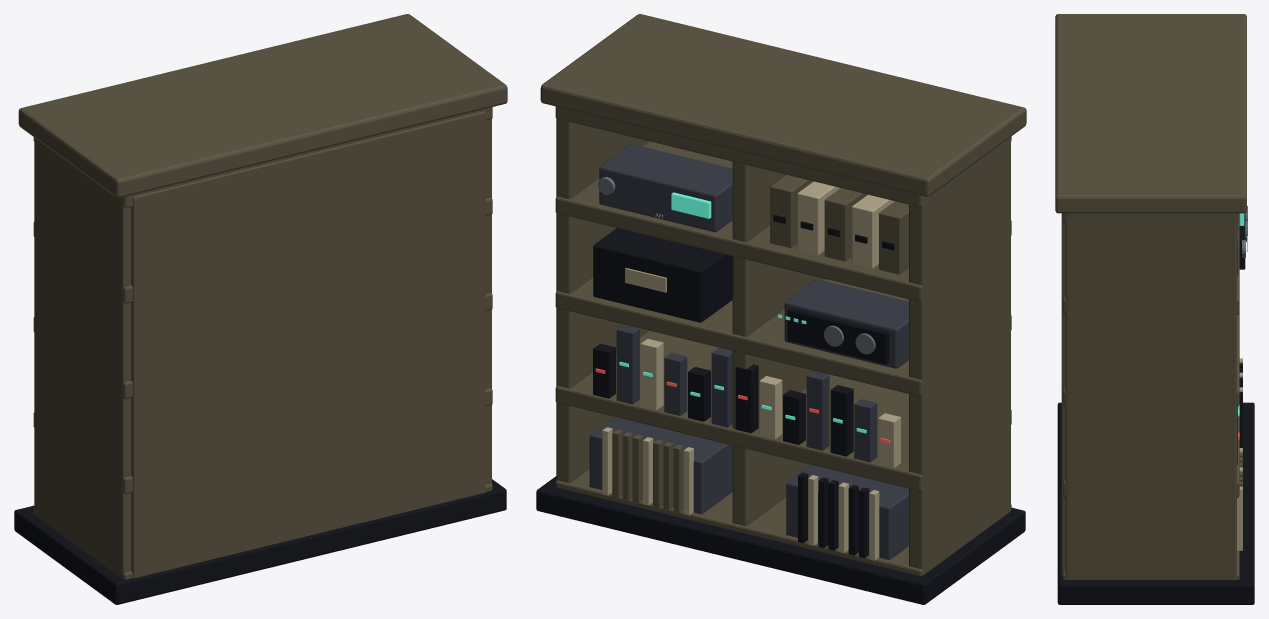
Rendered from studio_bookcase.glb.
3 renders of one model, left to right at view 1: azimuth 30°, elevation 25°; view 2: azimuth 150°, elevation 25°; view 3: azimuth 270°, elevation 25°, orthographic. The views are drawn at different scales.
Visible parts, largest first — view 1: studio_bookcase; view 2: studio_bookcase; view 3: studio_bookcase.
Part boxes in pixels (x1,y1,x2,y2): studio_bookcase: (14, 14, 507, 604); studio_bookcase: (536, 14, 1026, 604); studio_bookcase: (1055, 14, 1254, 604).
Size of the model in its own units: 1.72 by 1.79 by 0.79.
